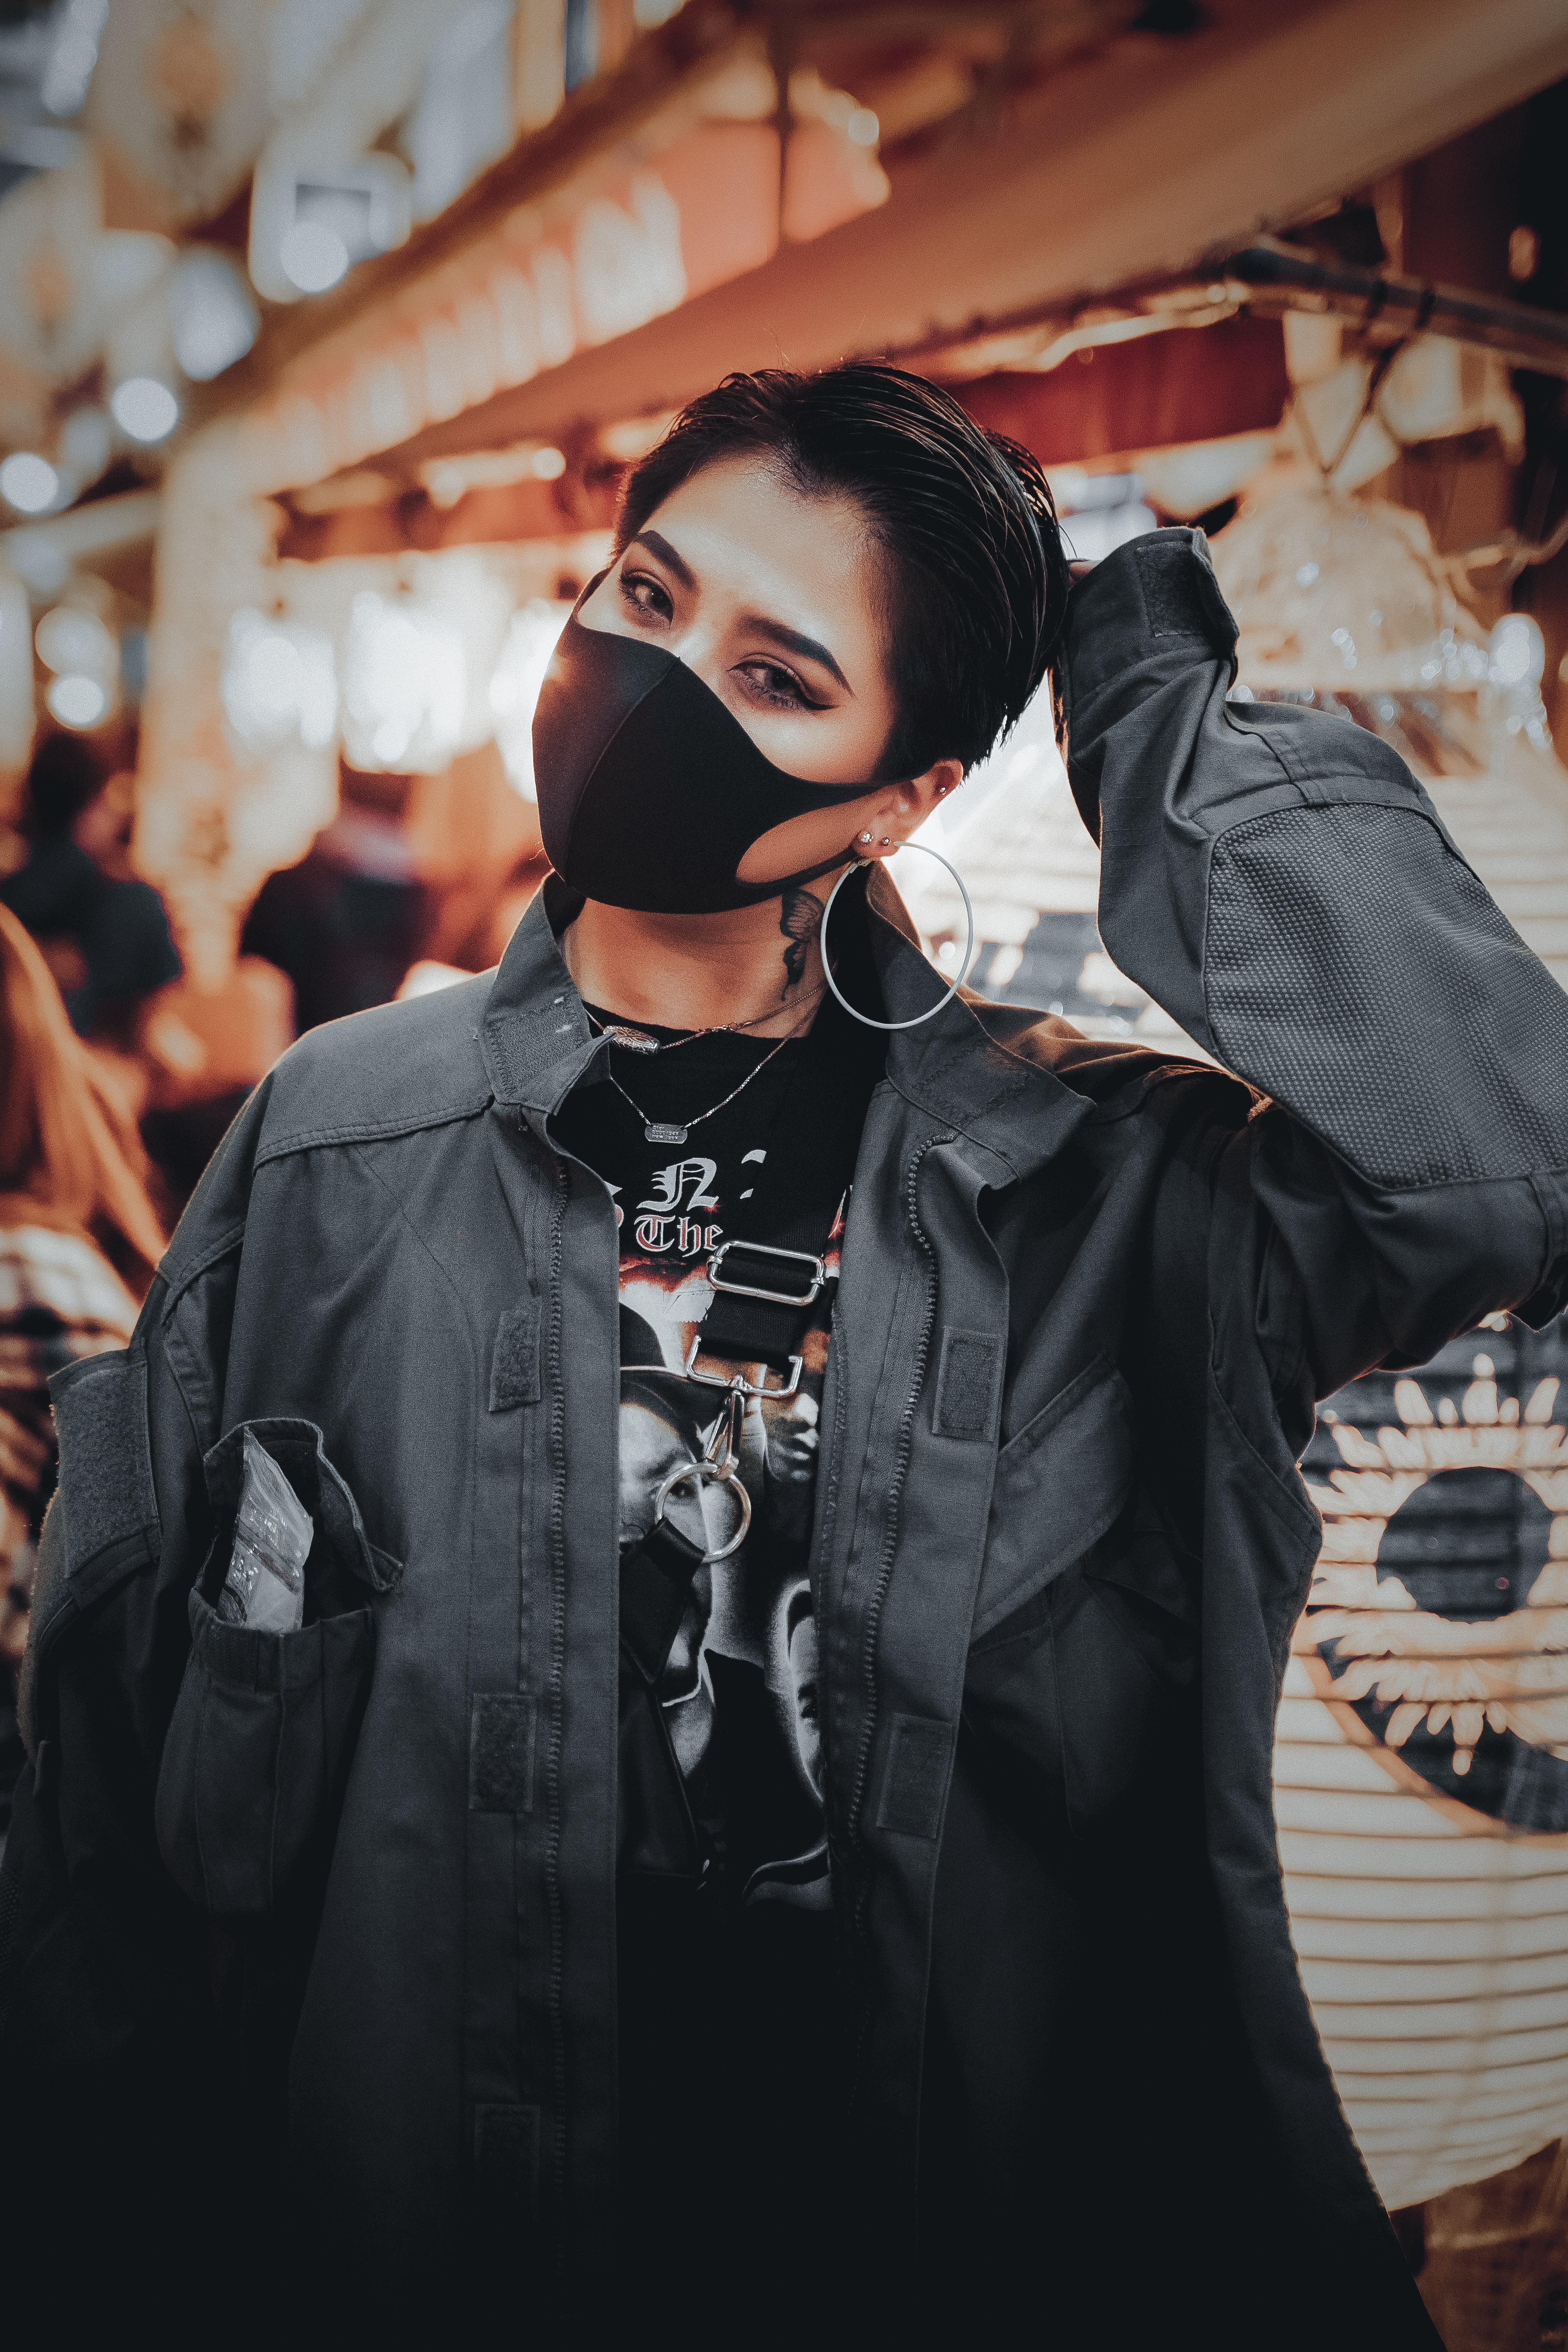mask: (510, 617, 870, 932)
person: (30, 322, 1484, 2352)
